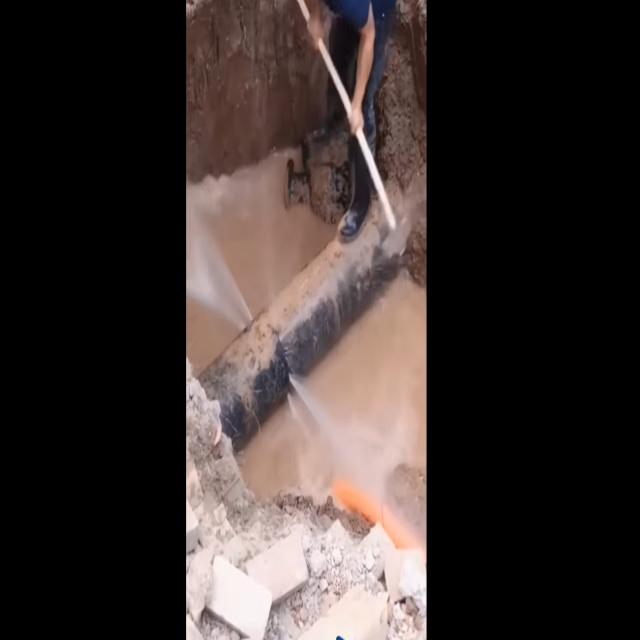leak: (186, 198, 252, 331), (289, 373, 342, 451)
